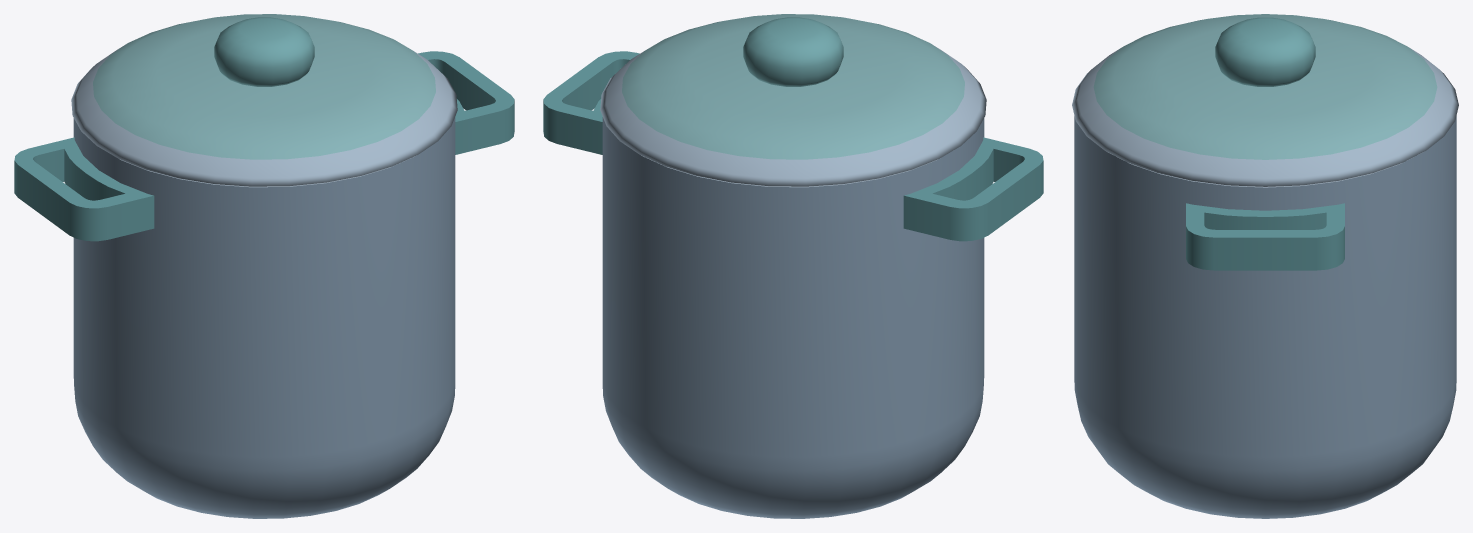
The model's file is Pot B.fbx.
The picture shows the model from 3 angles, left to right: view 1: azimuth 30°, elevation 25°; view 2: azimuth 150°, elevation 25°; view 3: azimuth 270°, elevation 25°; orthographic projection.
Visible parts, largest first — view 1: Pot.004, Pot.005; view 2: Pot.004, Pot.005; view 3: Pot.004, Pot.005.
Part boxes in pixels (x1,y1,x2,y2): Pot.004: (14,51,514,518); Pot.005: (71,14,457,186); Pot.004: (543,51,1043,518); Pot.005: (600,14,986,186); Pot.004: (1074,116,1456,518); Pot.005: (1072,14,1458,186).
Bounding box in the file's own units: 0.5821 × 0.5411 × 0.4422.
